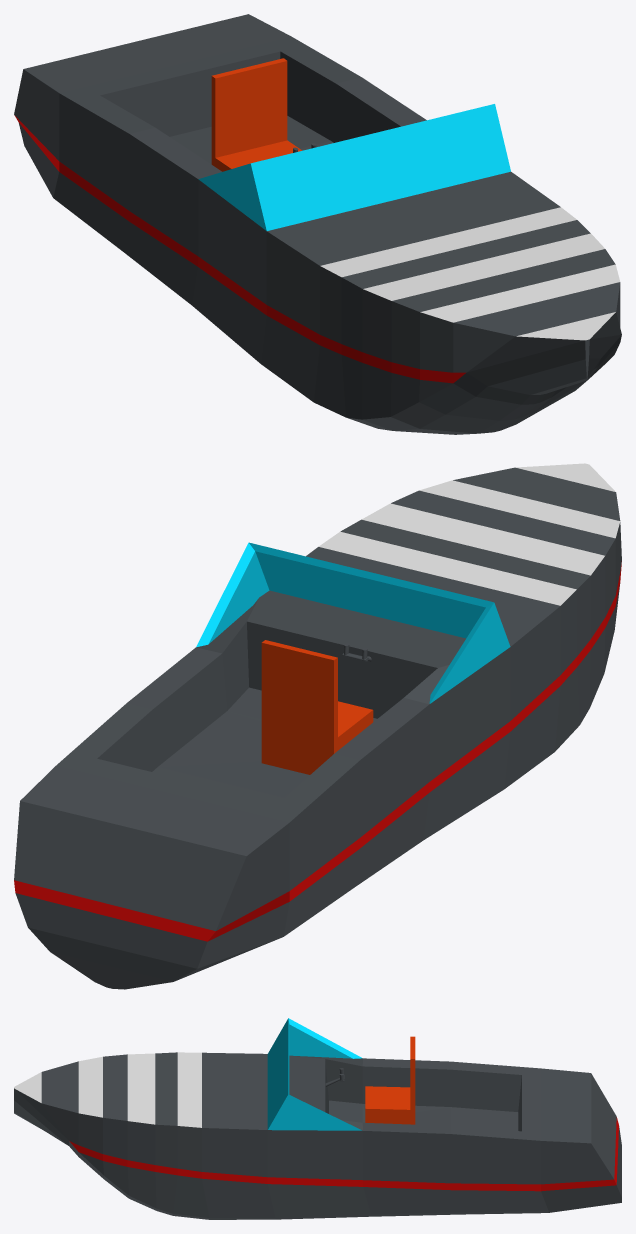
The model's file is speedboat (1).fbx.
The picture shows the model from 3 angles, top to bottom: view 1: azimuth 30°, elevation 25°; view 2: azimuth 150°, elevation 25°; view 3: azimuth 270°, elevation 25°; orthographic projection. The views are drawn at different scales.
Parts seen in each view (by area): view 1: Cube; view 2: Cube; view 3: Cube.
Part boxes in pixels (x1,y1,x2,y2): Cube: (14,14,621,434); Cube: (14,463,621,989); Cube: (14,1018,621,1219).
Bounding box in the file's own units: 168 × 154 × 565.
